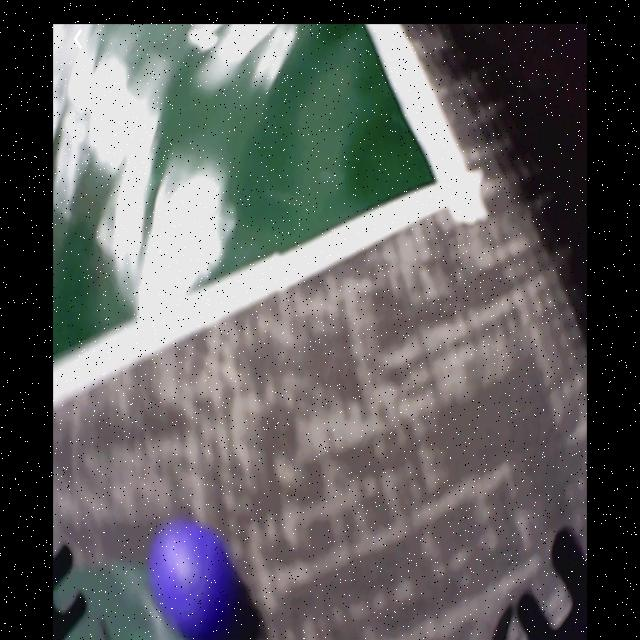ball: (151, 521, 233, 637)
